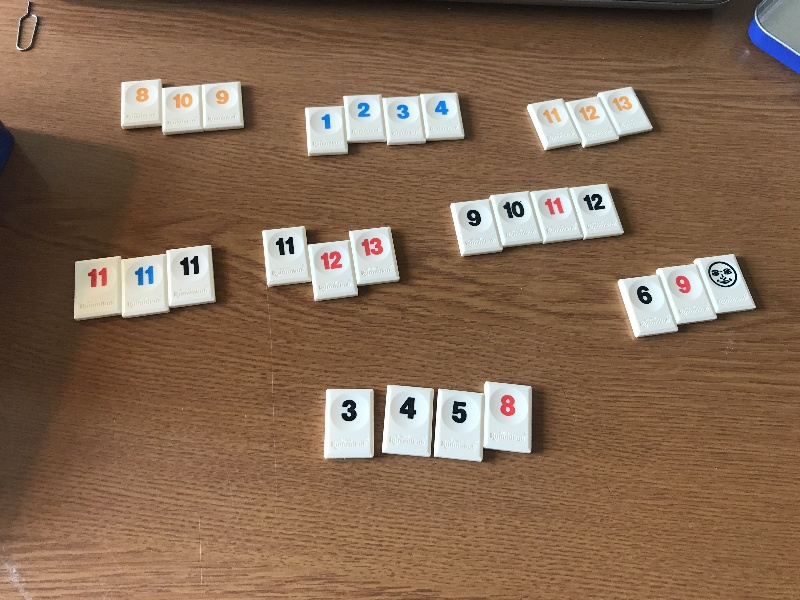single_tile: (478, 381, 536, 453), (694, 251, 759, 314), (656, 262, 718, 326), (382, 383, 434, 459), (619, 273, 677, 340), (437, 385, 485, 463), (324, 387, 375, 460), (260, 225, 313, 291), (569, 183, 627, 241), (73, 255, 123, 320), (448, 200, 505, 257), (307, 239, 359, 301), (349, 224, 401, 286), (167, 243, 215, 310), (527, 96, 583, 153), (530, 186, 584, 245), (121, 253, 170, 317), (490, 190, 544, 248), (598, 84, 655, 137), (565, 96, 622, 148), (202, 78, 249, 135), (304, 103, 351, 157), (161, 82, 204, 139), (383, 94, 428, 148), (342, 93, 388, 145), (421, 91, 466, 143), (120, 78, 164, 131)
tile_row: (321, 380, 536, 467), (448, 183, 626, 258), (616, 252, 760, 338), (74, 243, 218, 323), (261, 223, 406, 302), (301, 91, 471, 156), (526, 86, 655, 156), (120, 77, 249, 136)
